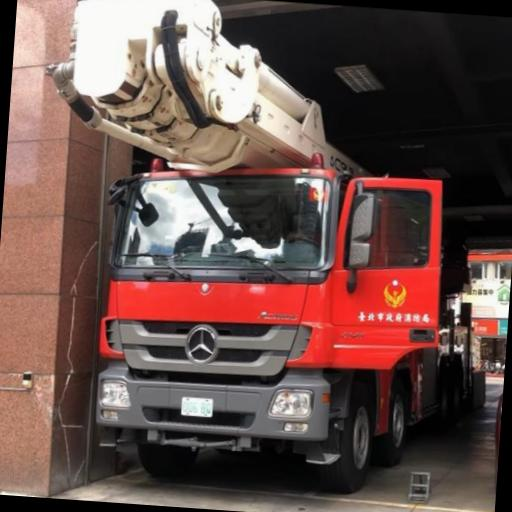fire truck: (46, 0, 441, 493)
